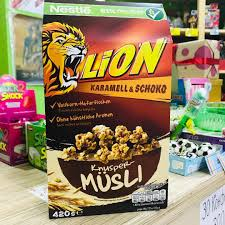cereals: (41, 1, 175, 220)
